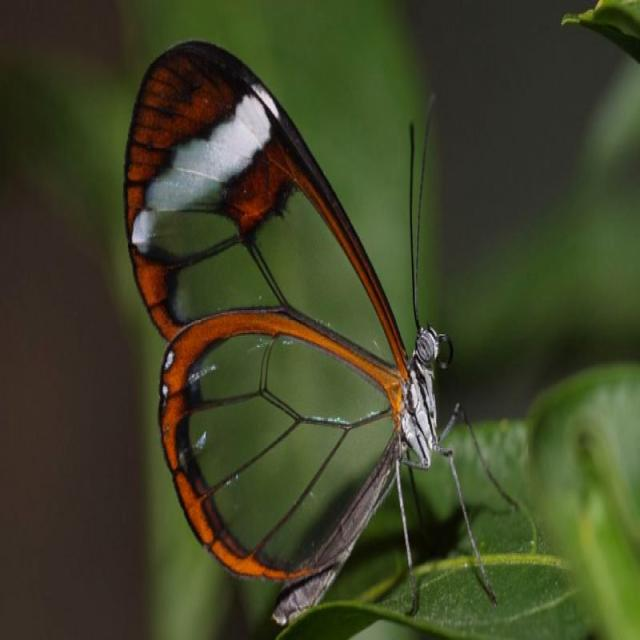butterfly: (124, 41, 514, 626)
